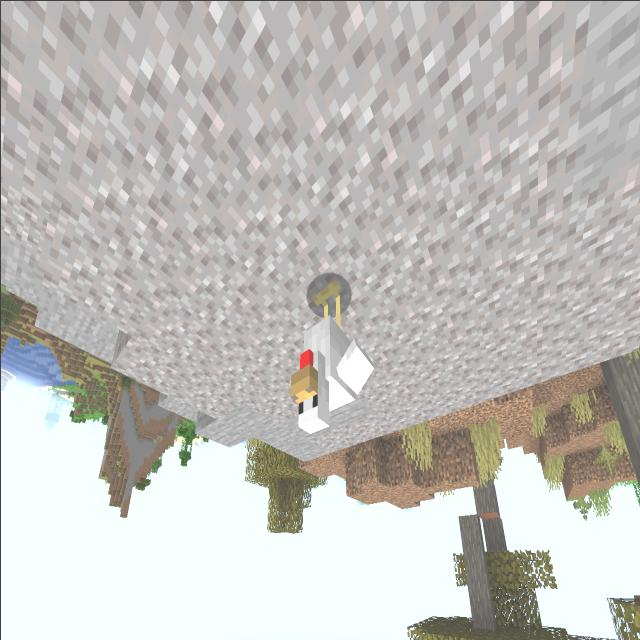chicken: (278, 257, 378, 449)
